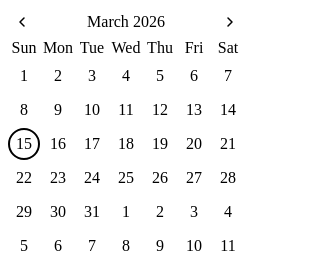
Test: Calendar › navigates to next month
Click the button named "Next month". click: (230, 22)
box: [216,8,244,36]
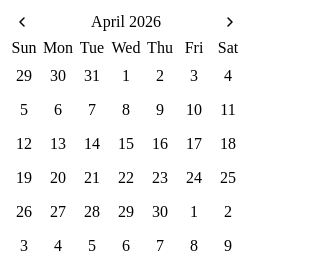
Expected: the text "April 2026" is shown, [91,13,161,31]
